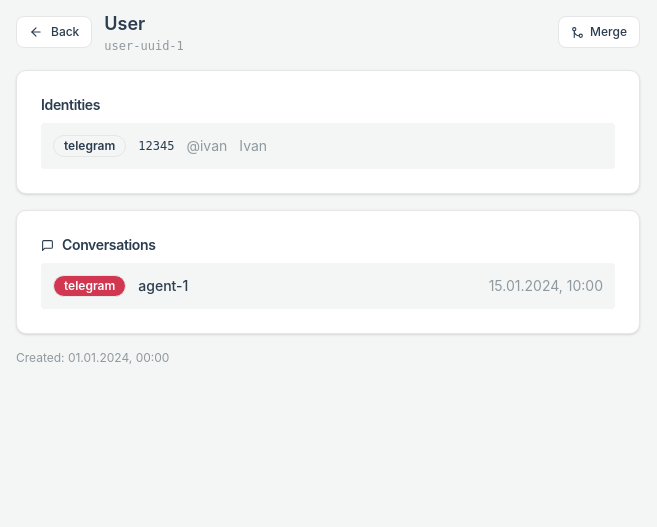
Test: UserDetailPage › shows merge UI when Merge button is clicked
Click the button with test id "merge-toggle-button" at (599, 32), box top-left (558, 16), bottom-right (640, 48)
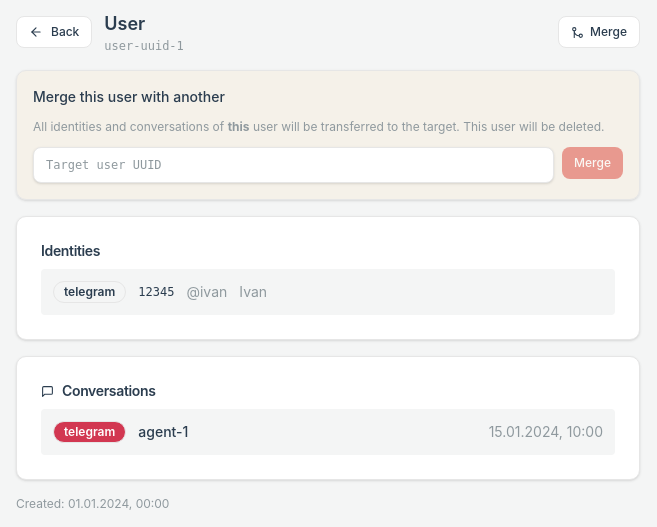
expect the text "Merge this user with another" is shown: met, box top-left (33, 88), bottom-right (225, 105)
